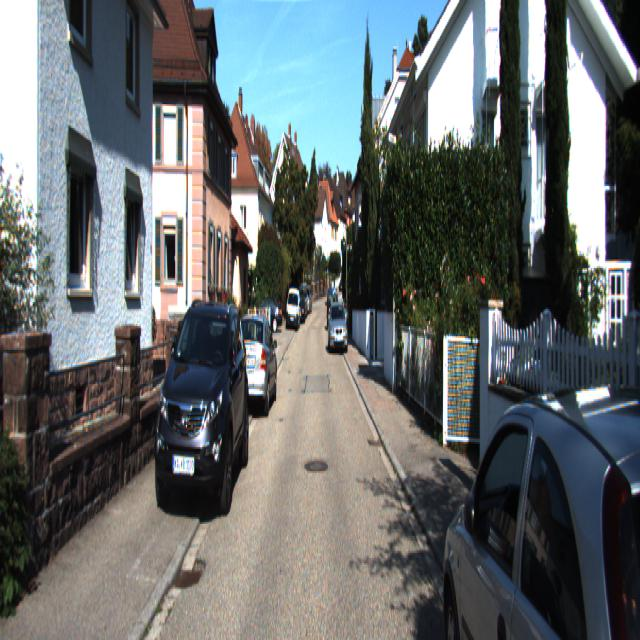Car: (443, 379, 640, 638), (152, 289, 251, 530), (232, 315, 278, 421), (327, 300, 349, 355), (285, 288, 302, 332)
